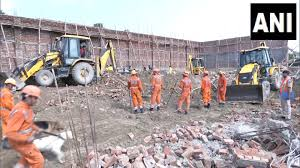arm: (7, 106, 39, 143), (0, 89, 16, 108), (137, 77, 143, 93)
face: (26, 91, 40, 105)
footwear: (148, 104, 155, 111), (175, 107, 183, 113), (155, 103, 161, 110), (184, 108, 190, 114), (138, 107, 144, 113), (130, 108, 137, 113)
helmet: (20, 81, 42, 101), (3, 74, 18, 89), (128, 67, 138, 75), (181, 69, 189, 77), (151, 68, 158, 74), (203, 69, 209, 75)
human: (0, 77, 50, 166), (276, 67, 296, 120), (125, 66, 144, 112), (176, 68, 193, 114), (147, 67, 162, 110), (200, 69, 213, 107), (216, 68, 228, 102)
leg: (18, 141, 45, 167), (280, 95, 292, 120), (175, 94, 185, 113), (148, 90, 156, 110), (129, 93, 137, 112), (184, 94, 191, 114), (136, 92, 143, 111), (155, 89, 161, 110)
vest: (4, 100, 36, 142), (127, 75, 140, 92), (180, 76, 191, 95), (151, 75, 160, 91), (202, 76, 211, 92), (217, 75, 226, 91)
